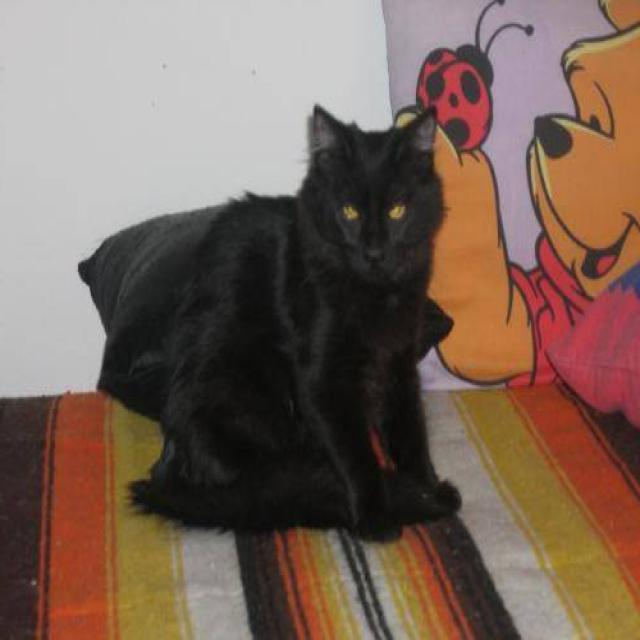Kucing: (107, 87, 455, 569)
